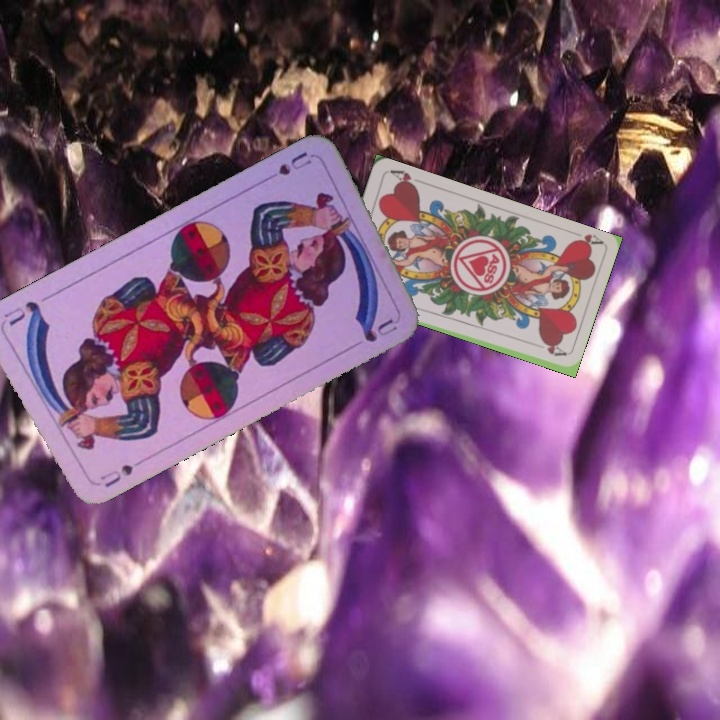HA: (564, 227, 604, 251)
SU: (258, 148, 315, 186), (96, 460, 136, 490)
